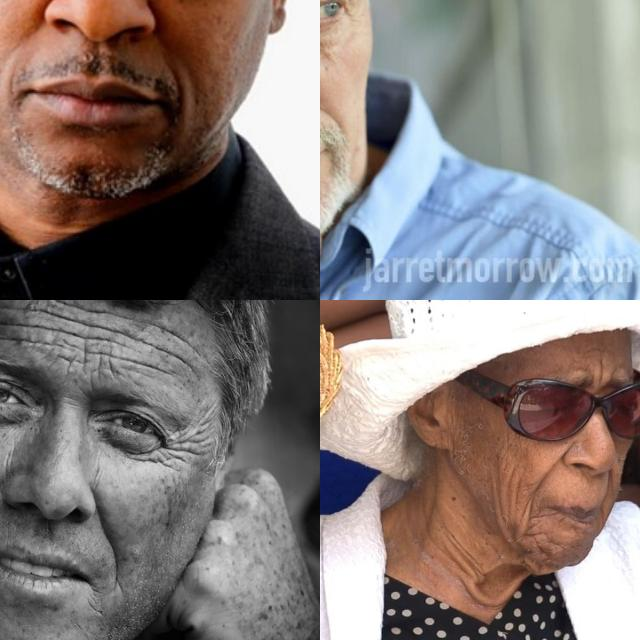crows_feet: (161, 429, 191, 469)
forehead: (106, 350, 156, 382), (62, 339, 98, 375), (40, 300, 77, 333), (86, 313, 132, 339), (140, 332, 177, 362), (0, 328, 42, 353), (158, 316, 190, 344), (0, 306, 27, 333)
frown_line: (592, 356, 608, 382)
gummy_smile: (90, 508, 124, 564), (168, 70, 192, 120), (536, 450, 562, 492), (320, 99, 341, 132), (598, 472, 612, 508), (110, 569, 126, 597)
masseter: (492, 464, 508, 512)
sad_smile: (522, 504, 540, 546), (87, 582, 103, 620)
